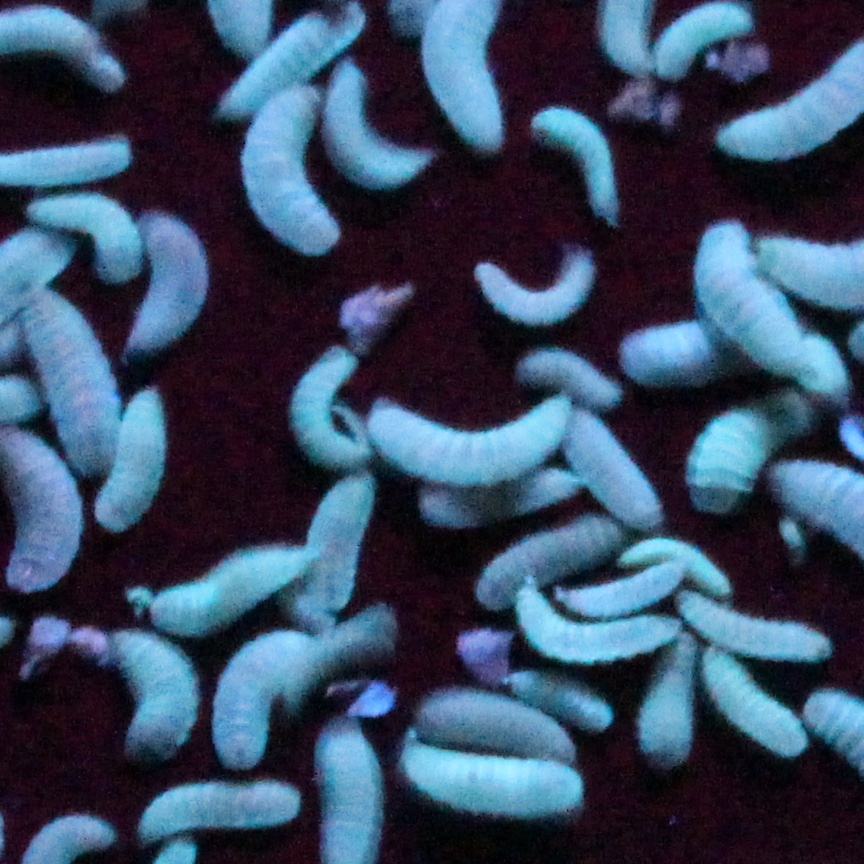larve: (697, 225, 846, 410), (18, 294, 118, 477), (235, 89, 345, 250), (373, 402, 571, 486), (223, 6, 362, 123), (693, 394, 822, 517), (397, 733, 583, 814), (159, 540, 315, 635), (120, 214, 213, 357), (554, 406, 665, 525), (407, 686, 583, 761), (514, 582, 679, 659), (325, 55, 423, 184), (479, 523, 620, 612), (108, 628, 203, 755), (32, 187, 150, 284), (697, 655, 816, 751), (213, 621, 284, 772), (96, 387, 171, 528), (422, 466, 589, 529), (677, 594, 834, 661), (284, 345, 369, 462), (532, 110, 620, 223), (142, 784, 303, 845), (473, 251, 597, 325), (622, 327, 771, 388), (652, 2, 756, 84), (308, 479, 369, 616), (620, 533, 738, 602), (514, 343, 628, 406), (640, 633, 693, 764), (507, 672, 622, 731), (558, 568, 687, 612)
